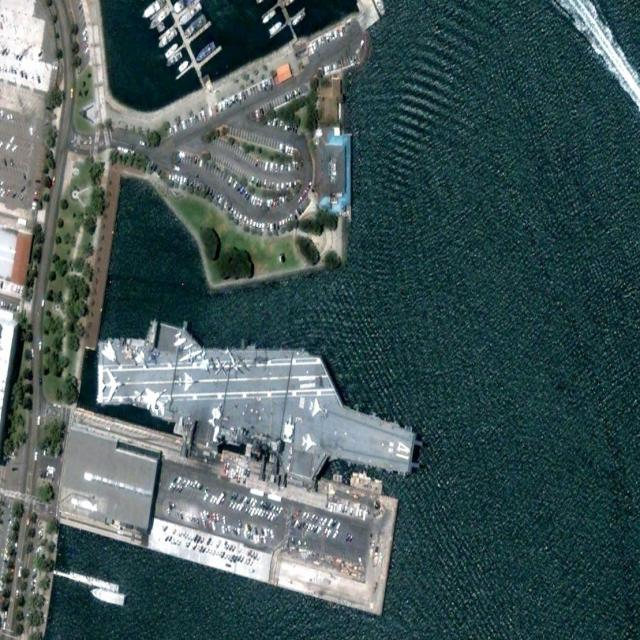Aircraft Carrier: (88, 292, 424, 508)
